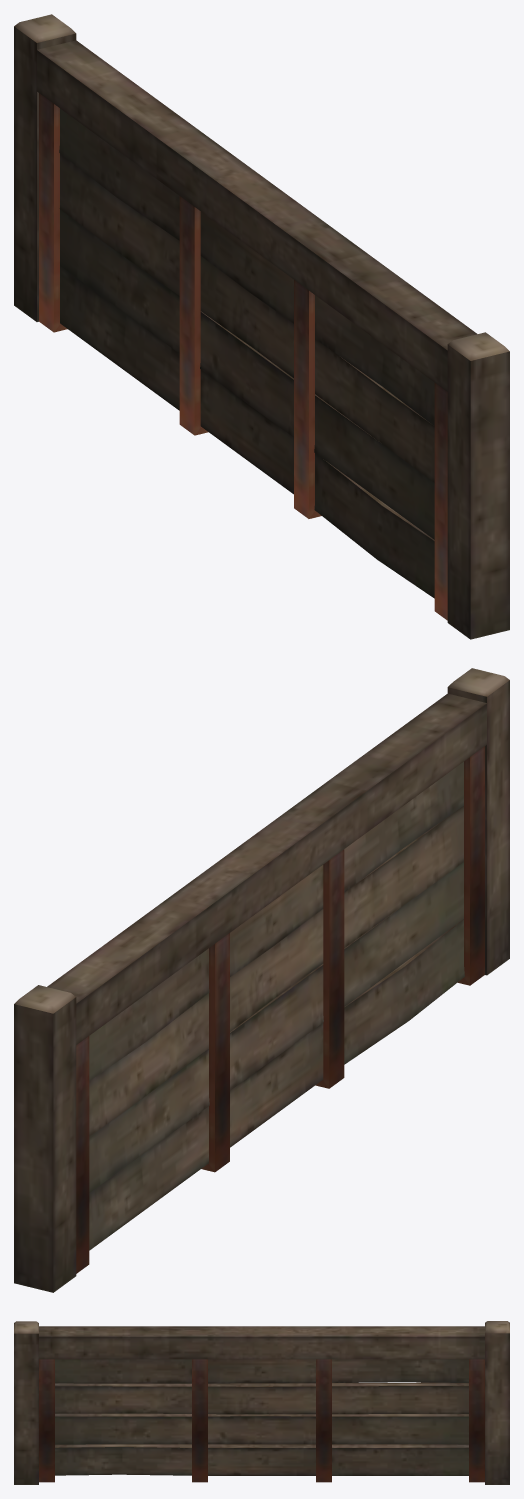
The model's file is wall.low.wood.glb.
The picture shows the model from 3 angles, top to bottom: view 1: azimuth 30°, elevation 25°; view 2: azimuth 150°, elevation 25°; view 3: azimuth 270°, elevation 25°; orthographic projection. The views are drawn at different scales.
Parts seen in each view (by area): view 1: m_boat_low_wall_LOD0; view 2: m_boat_low_wall_LOD0; view 3: m_boat_low_wall_LOD0.
Part boxes in pixels (x1=…): m_boat_low_wall_LOD0: x1=14, y1=14, x2=509, y2=639; m_boat_low_wall_LOD0: x1=14, y1=668, x2=509, y2=1292; m_boat_low_wall_LOD0: x1=14, y1=1321, x2=509, y2=1484.
Size of the model in its own units: 0.1496 by 1.03 by 3.
1 material, 1 textured.
